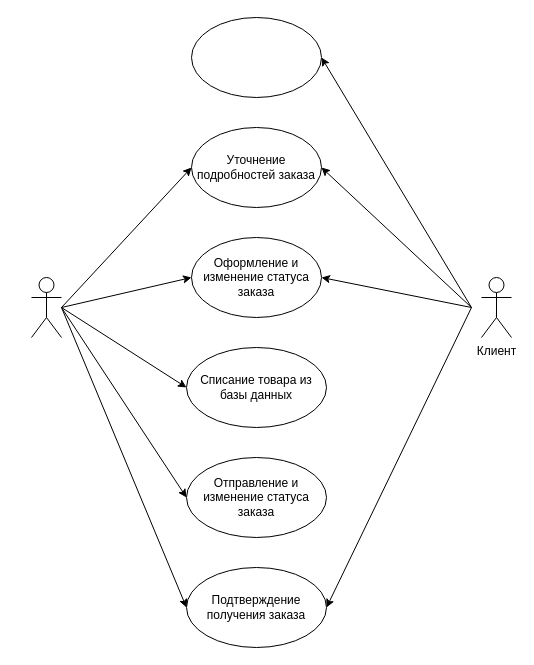
Image size: 534x665. Some labels were removed from this diagram. The shapes that lost their labels are listed below. From the top down, each one's centre as x and y in pixels, then its label:
At point (256, 57): "Формирование заказа на сайте".
At point (46, 307): "Менеджер".
